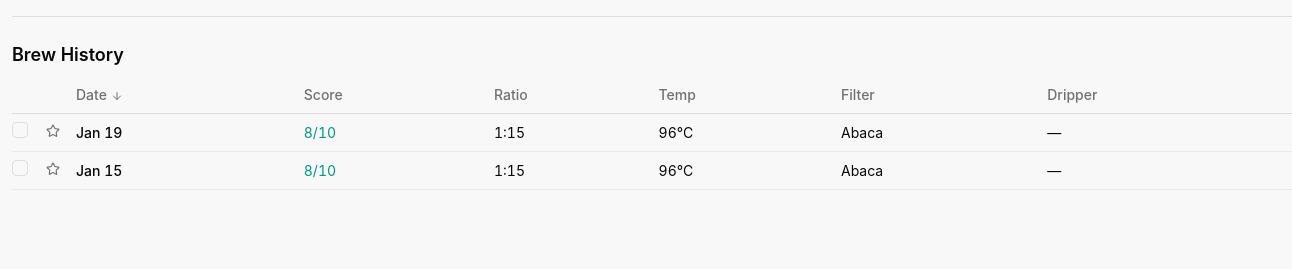
Test: BrewHistoryTable — comparison selection › deselects a brew when its checkbox is clicked again
The image size is (1292, 269).
Click the checkbox named "Select brew from Jan 19 for comparison": click(20, 130) x1=12 y1=122 x2=28 y2=138
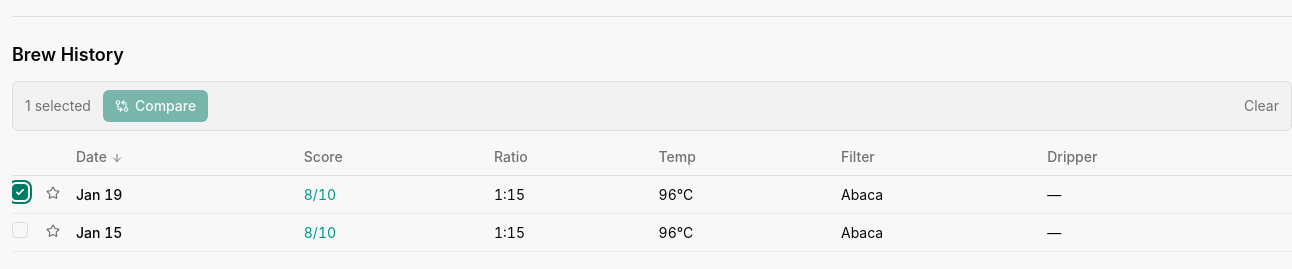
Now the text "1 selected" is shown, box x1=25 y1=96 x2=91 y2=116
Click the checkbox named "Select brew from Jan 19 for comparison": click(20, 192) x1=12 y1=184 x2=28 y2=200
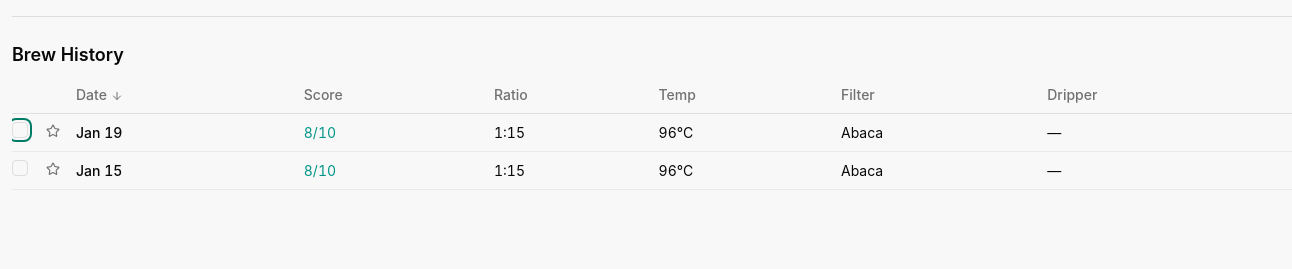
Now the text "1 selected" is gone
Now the button "Compare" is gone
